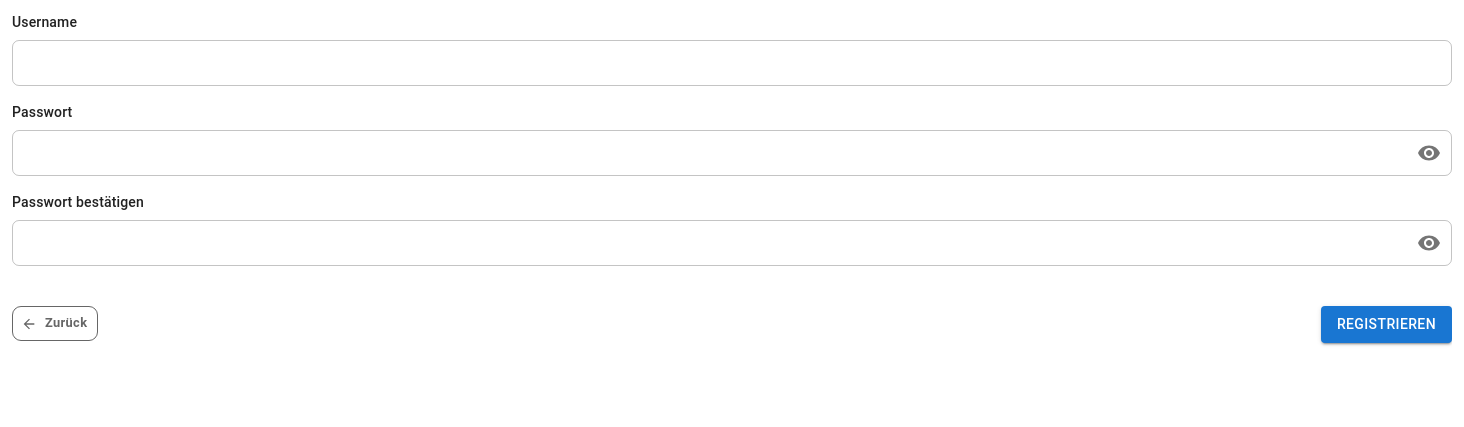
it: shows error when username already exists
The image size is (1464, 427).
Type "existinguser" into the field named "Username" at (732, 63), box top-left (12, 45), bottom-right (1452, 81)
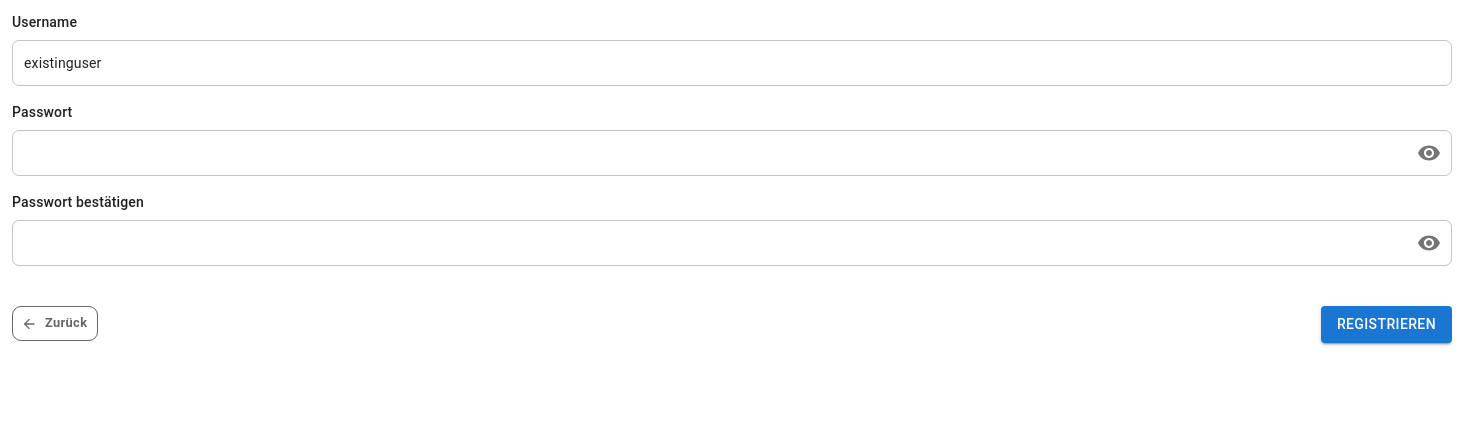
Type "Password123!" into the password field named "Password" at (708, 153), box top-left (12, 135), bottom-right (1404, 171)
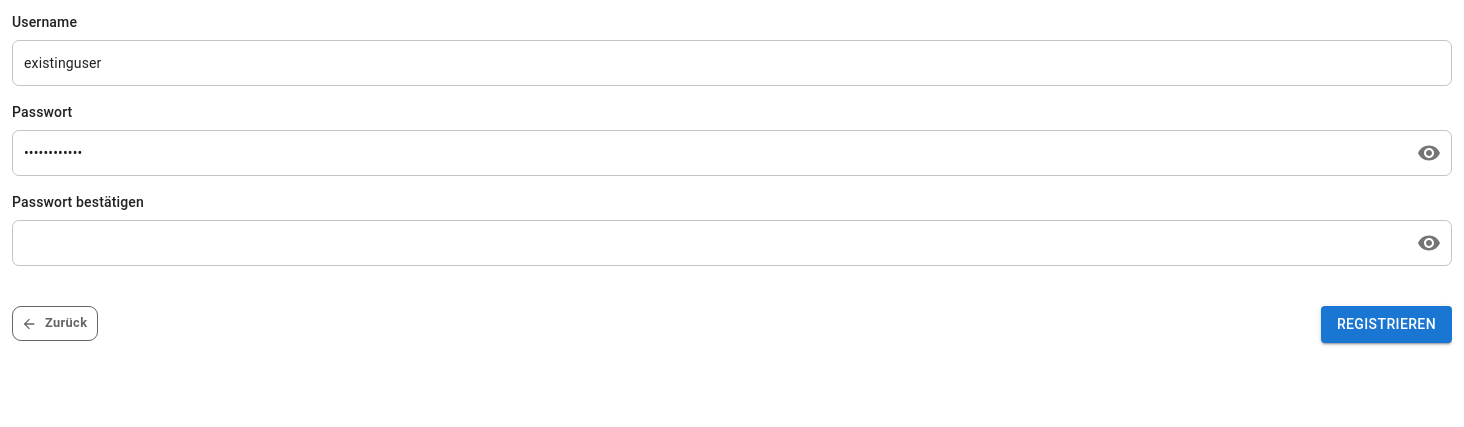
Type "Password123!" into the password field named "Password-Confirm" at (708, 243), box top-left (12, 225), bottom-right (1404, 261)
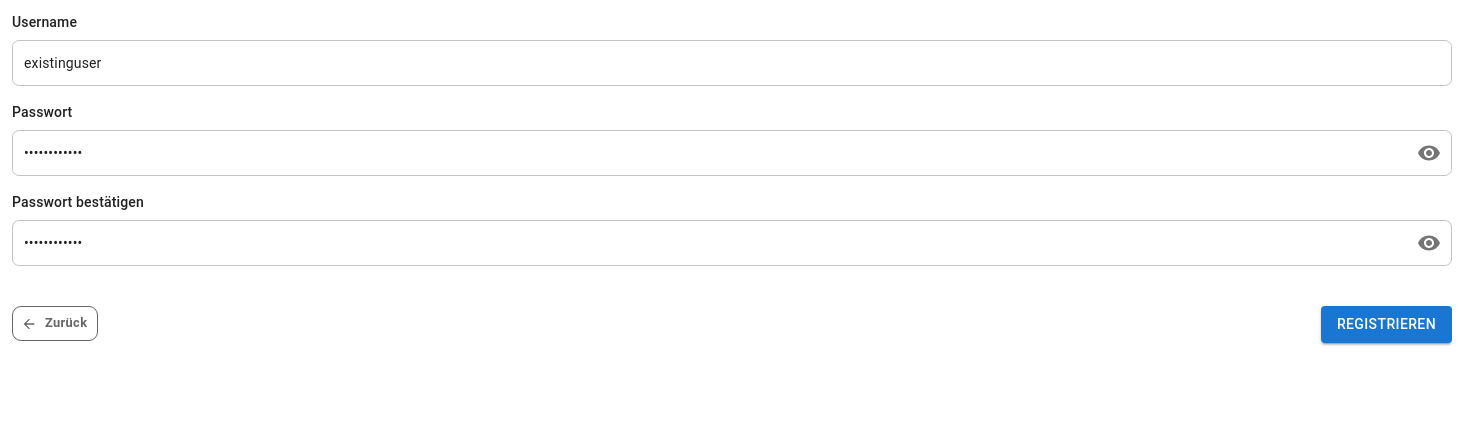
Click the button "Registrieren" at (1386, 324), box top-left (1321, 306), bottom-right (1452, 342)
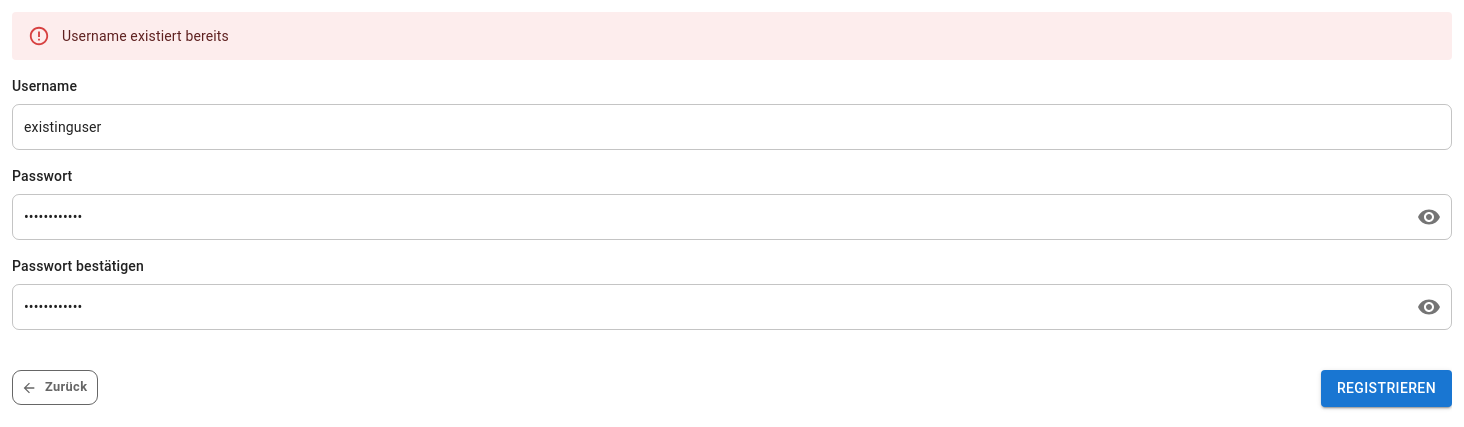
Expected: the text "Username existiert bereits" is shown, top-left (62, 28), bottom-right (229, 44)
